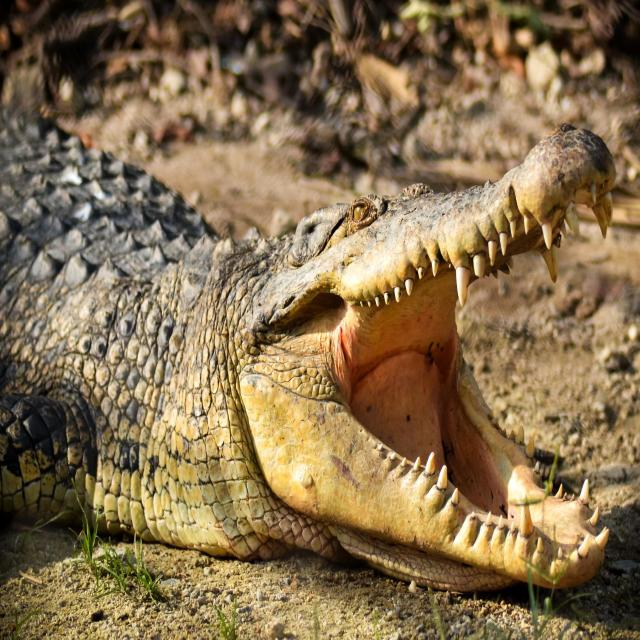crocodile: (0, 60, 640, 640)
